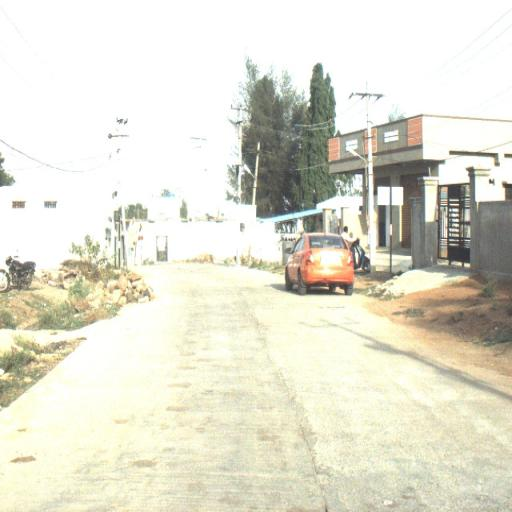street_light_0: (344, 146, 376, 190), (242, 164, 259, 189)
